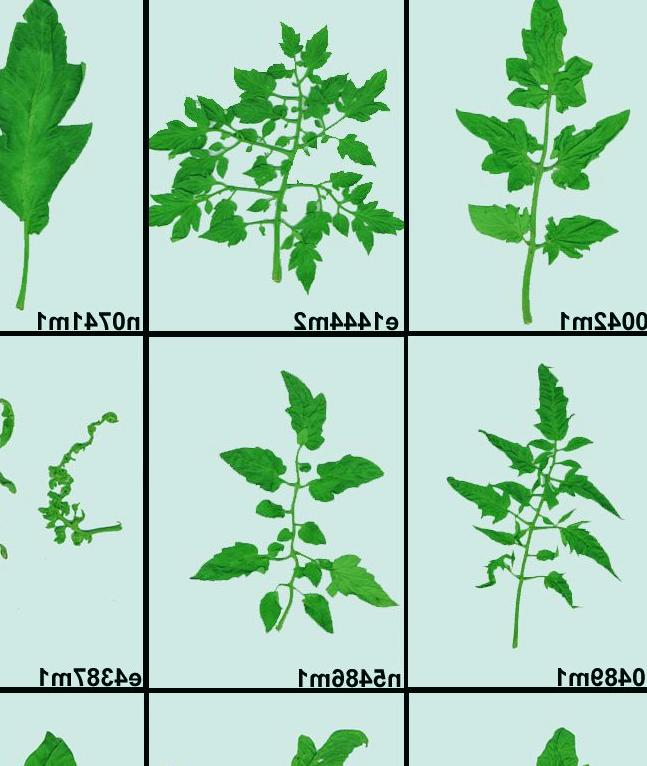Tomato leaf: (0, 0, 115, 239), (509, 0, 592, 116), (552, 108, 635, 194), (456, 101, 543, 182), (452, 204, 546, 256), (523, 353, 578, 441), (286, 354, 329, 459), (210, 445, 299, 494)
